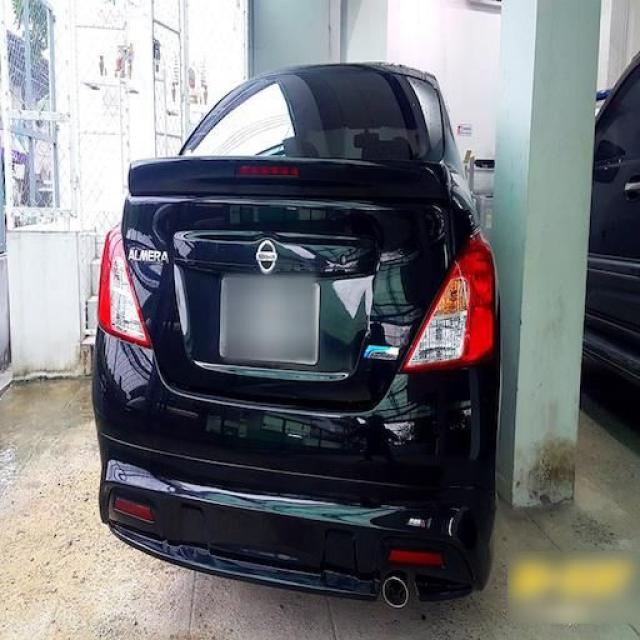back_bumper: (93, 326, 504, 602)
back_glass: (182, 73, 446, 162)
back_left_light: (98, 221, 154, 348)
back_right_light: (398, 222, 496, 371)
tailgate: (124, 156, 456, 413)
